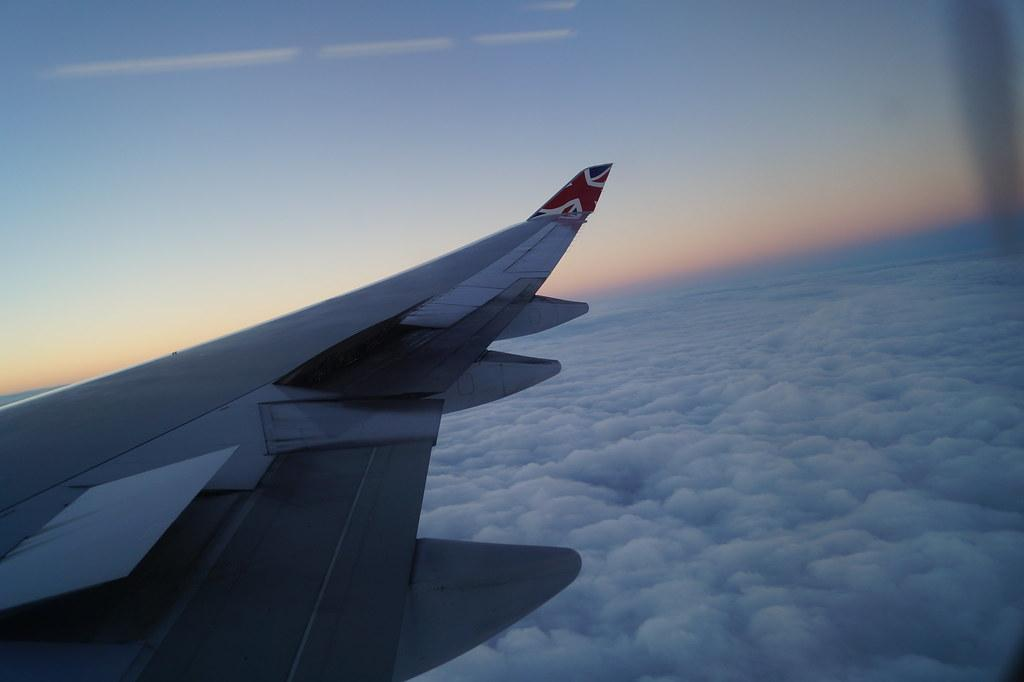plane: (1, 161, 614, 681)
